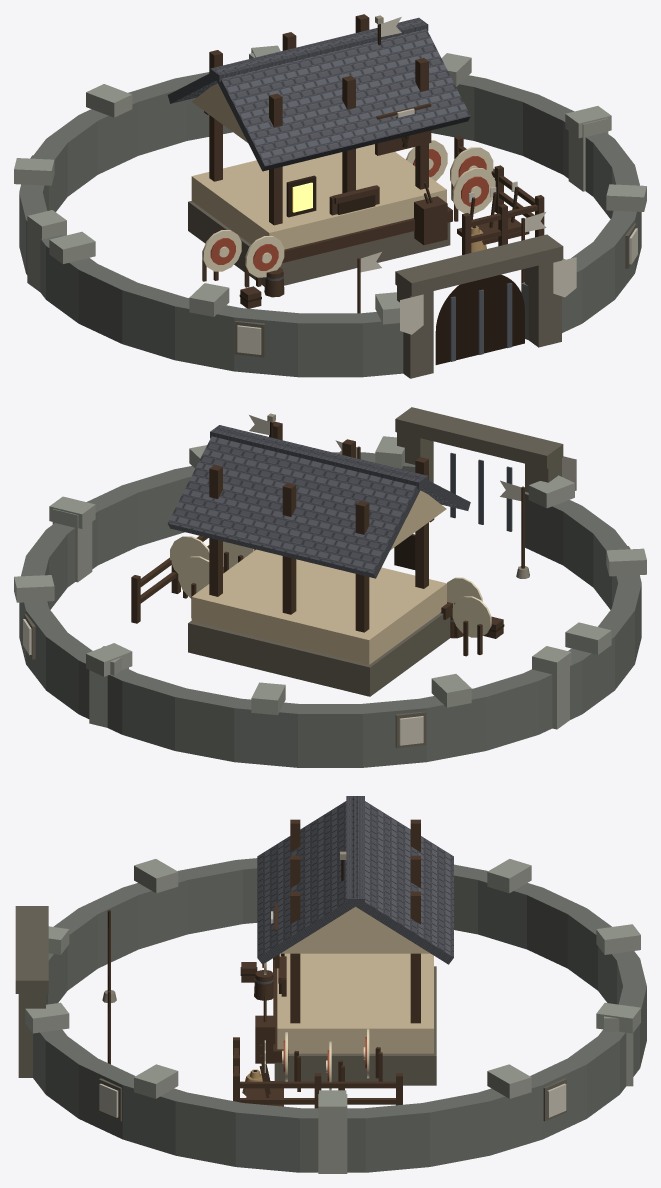
Rendered from town-archer-L2.glb.
The picture shows the model from 3 angles, top to bottom: view 1: azimuth 30°, elevation 25°; view 2: azimuth 150°, elevation 25°; view 3: azimuth 270°, elevation 25°; orthographic projection.
Visible parts, largest first — view 1: building-archer-L2, object 8, object 9, object 10, object 12, object 11, object 2, object 13, object 7; view 2: building-archer-L2, object 8, object 9, object 10, object 11, object 13, object 2; view 3: object 8, building-archer-L2, object 9, object 10, object 2, object 11.
Boxes of the visible parts, left/top/right/bottom form: building-archer-L2: left=167, top=14, right=544, bottom=287; object 8: left=19, top=72, right=641, bottom=377; object 9: left=14, top=45, right=646, bottom=324; object 10: left=30, top=155, right=636, bottom=378; object 12: left=435, top=274, right=524, bottom=364; object 11: left=237, top=228, right=637, bottom=354; object 2: left=240, top=218, right=524, bottom=313; object 13: left=450, top=283, right=512, bottom=361; object 7: left=360, top=212, right=546, bottom=272; building-archer-L2: left=131, top=413, right=491, bottom=696; object 8: left=19, top=452, right=641, bottom=767; object 9: left=14, top=436, right=646, bottom=729; object 10: left=24, top=407, right=630, bottom=748; object 11: left=23, top=456, right=576, bottom=745; object 13: left=450, top=452, right=512, bottom=531; object 2: left=357, top=446, right=524, bottom=638; object 8: left=33, top=858, right=646, bottom=1172; building-archer-L2: left=233, top=796, right=453, bottom=1108; object 9: left=25, top=859, right=640, bottom=1173; object 10: left=15, top=906, right=566, bottom=1121; object 2: left=107, top=910, right=273, bottom=1064; object 11: left=99, top=1083, right=566, bottom=1117.
Bounding box in the file's own units: 7.02 × 2.6 × 6.95.
Materials: 16 (1 with a texture image).
